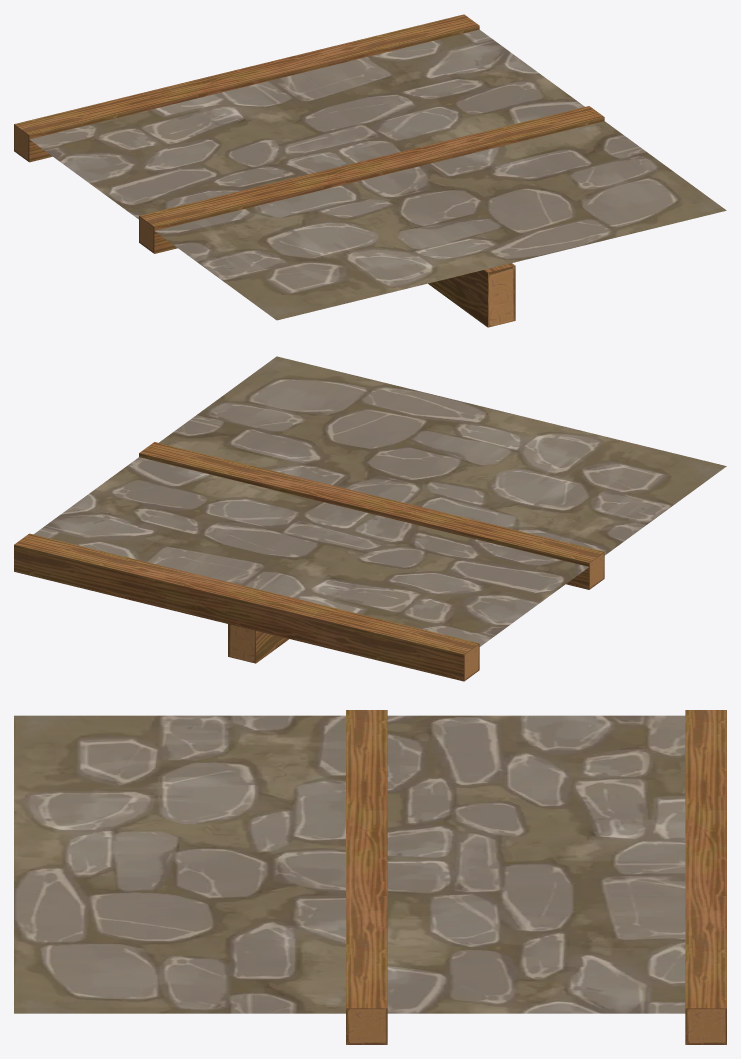
The model's file is overhang_roof_unevenbricks.glb.
3 views of the same model, one above another, from view 1: azimuth 30°, elevation 25°; view 2: azimuth 150°, elevation 25°; view 3: azimuth 270°, elevation 25° (orthographic). The views are drawn at different scales.
Bounding box in the file's own units: 2 × 0.2659 × 2.02.
Materials: 2 (2 with a texture image).
